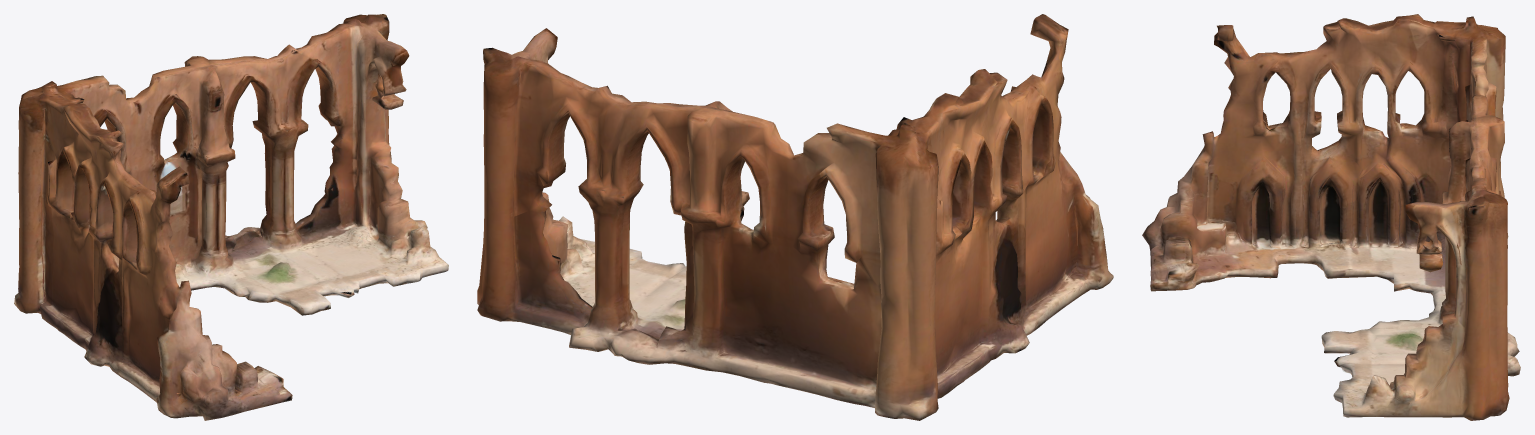
The model's file is ruins01.fbx.
3 renders of one model, left to right at view 1: azimuth 30°, elevation 25°; view 2: azimuth 150°, elevation 25°; view 3: azimuth 270°, elevation 25°, orthographic. The views are drawn at different scales.
Parts seen in each view (by area): view 1: Mesh1; view 2: Mesh1; view 3: Mesh1.
Part boxes in pixels (<box>): Mesh1: <box>14,14,448,420</box>; Mesh1: <box>477,14,1113,420</box>; Mesh1: <box>1142,14,1520,420</box>.
Size of the model in its own units: 200 by 115 by 171.
Materials: 1 (1 with a texture image).
